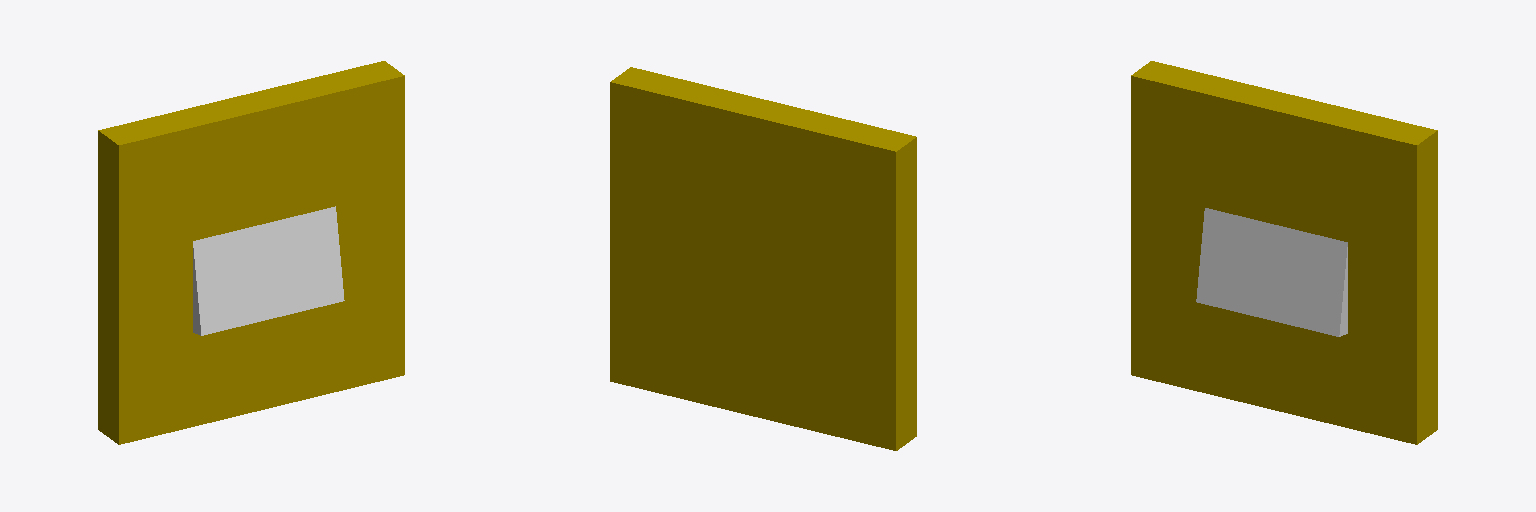
Rendered from interrupteur.obj.
The picture shows the model from 3 angles: view 1: azimuth 30°, elevation 25°; view 2: azimuth 150°, elevation 25°; view 3: azimuth 330°, elevation 25°; orthographic projection.
Parts seen in each view (by area): view 1: Cube_1, Cube_10; view 2: Cube_1; view 3: Cube_1, Cube_10.
Part boxes in pixels (x1,y1,x2,y2): Cube_1: (98,61,404,444); Cube_10: (193,206,344,335); Cube_1: (610,67,916,450); Cube_1: (1131,61,1437,444); Cube_10: (1196,208,1347,336).
Bounding box in the file's own units: 8 × 8 × 1.42.